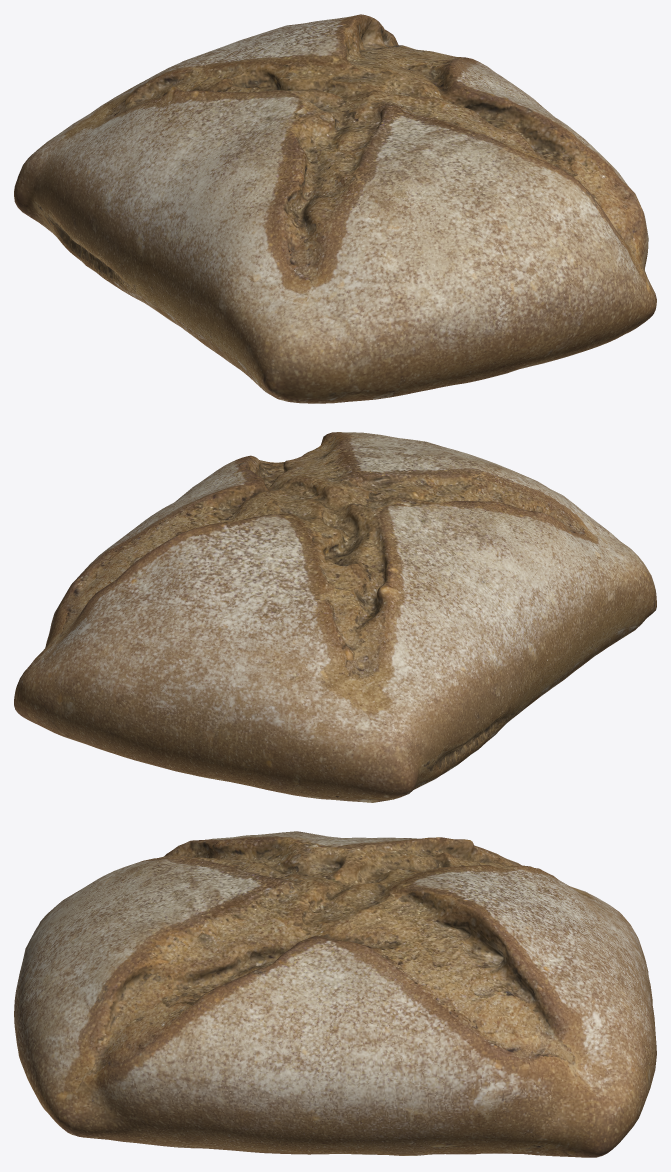
The model's file is SM_ryebread.fbx.
3 views of the same model, one above another, from view 1: azimuth 30°, elevation 25°; view 2: azimuth 150°, elevation 25°; view 3: azimuth 270°, elevation 25° (orthographic). The views are drawn at different scales.
Visible parts, largest first — view 1: SM_ryebread_LOD0; view 2: SM_ryebread_LOD0; view 3: SM_ryebread_LOD0.
Boxes of the visible parts, x1,y1,x2,y2 form: SM_ryebread_LOD0: (14,14,656,403); SM_ryebread_LOD0: (14,432,656,802); SM_ryebread_LOD0: (14,831,656,1157).
Size of what is drawn, in the model's own units: 0.158 by 0.0691 by 0.2014.
